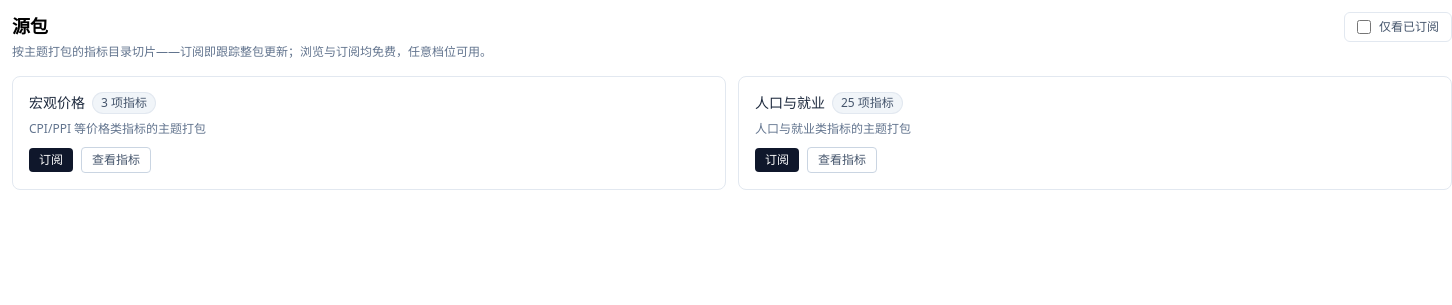
Test: PacksPage（源包 · 卡片墙 + 订阅） › 会话中途失效（订阅端点 401）：转引导登录，浏览不受影响
This screenshot has width=1452, height=305.
What coordinates should you click on to do the following:
click the button with test id "pack-toggle-subscribe" below "3 项指标"
I would click on:
 (51, 160)
Its box is [29,148,73,172].
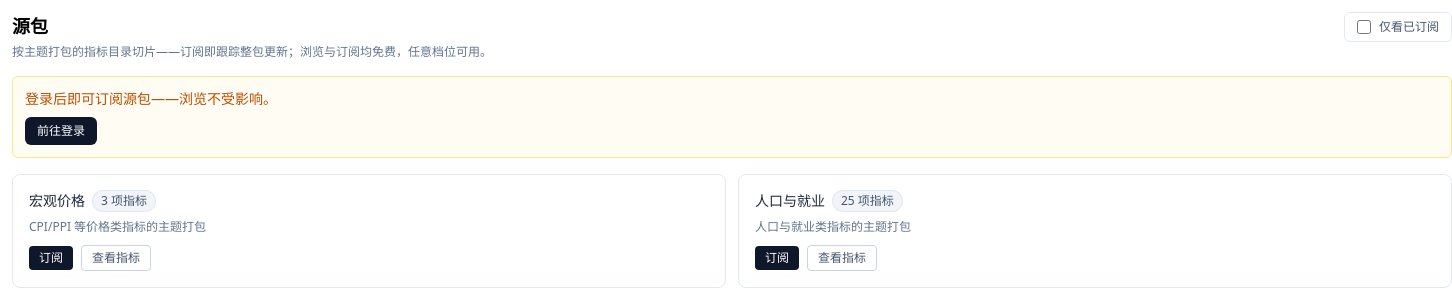
Check: the number of list items with test id "pack-card" is 2, box [12,174,726,288]; [738,174,1451,288]
Check: the element with test id "packs-login-hint" is shown, box [12,76,1451,158]
